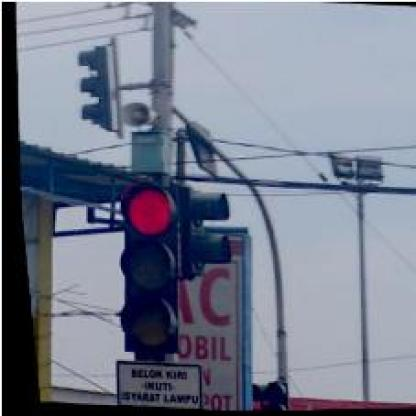red: (103, 178, 183, 352)
